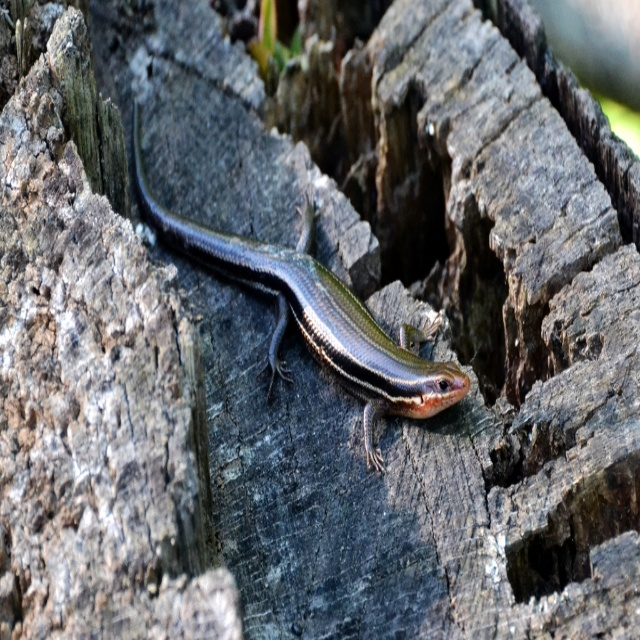Lizard: (117, 111, 474, 474)
